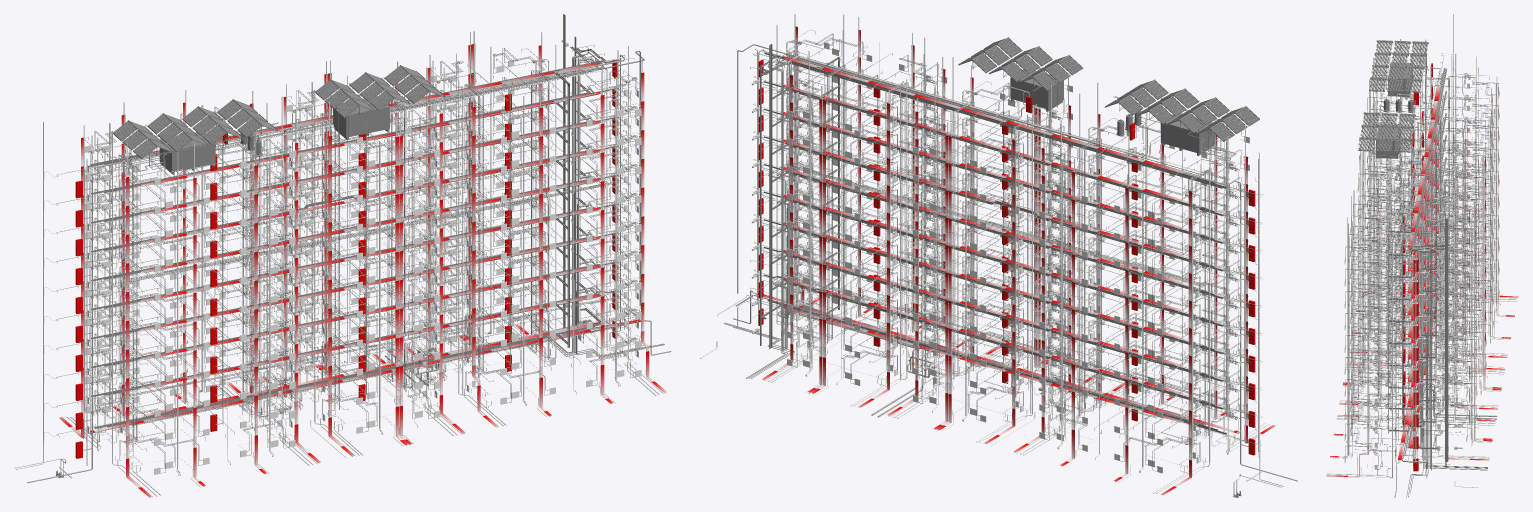
Rendered from jdjgss.gltf.
3 renders of one model, left to right at view 1: azimuth 30°, elevation 25°; view 2: azimuth 150°, elevation 25°; view 3: azimuth 270°, elevation 25°, orthographic. The views are drawn at different scales.
Parts seen in each view (by area): view 1: jgss1cjdsg, jgss6cjdsg, jgss2cjdsg, jgss7cjdsg, jgssdcjdxhs, jgss3cjdsg, jgss5cjdsg, jgssscjdsg, jgss8cjdsg, jgss4cjdsg, jgss9cjdsg, jgss1cjdsglx (+30 smaller); view 2: jgss1cjdsg, jgssscjdsg, jgss6cjdsg, jgssdcjdxhs, jgss2cjdsg, jgss7cjdsg, jgss9cjdsg, jgss3cjdsg, jgss8cjdsg, jgss5cjdsg, jgss4cjdsg, jgss1cjdsglx (+30 smaller); view 3: jgss1cjdsg, jgssscjdsg, jgss9cjdsg, jgss8cjdsg, jgssdcjdxhs, jgss7cjdsg, jgss6cjdsg, jgss5cjdsg, jgss2cjdsg, jgss4cjdsg, jgss3cjdsg, jgss1cjdsglx (+30 smaller).
Part boxes in pixels (x1,y1,x2,y2): jgss1cjdsg: (14, 297, 671, 497); jgss6cjdsg: (43, 154, 642, 325); jgss2cjdsg: (43, 272, 642, 441); jgss7cjdsg: (43, 125, 642, 296); jgssdcjdxhs: (113, 65, 445, 185); jgss3cjdsg: (43, 241, 642, 412); jgss5cjdsg: (43, 183, 642, 357); jgssscjdsg: (43, 44, 644, 212); jgss8cjdsg: (43, 98, 642, 267); jgss4cjdsg: (43, 214, 642, 383); jgss9cjdsg: (43, 69, 642, 241); jgss1cjdsglx: (59, 304, 666, 497); jgss1cjdsg: (700, 270, 1297, 495); jgssscjdsg: (737, 29, 1263, 222); jgss6cjdsg: (737, 132, 1262, 330); jgssdcjdxhs: (958, 37, 1259, 155); jgss2cjdsg: (737, 242, 1262, 440); jgss7cjdsg: (737, 104, 1261, 302); jgss9cjdsg: (737, 53, 1262, 250); jgss3cjdsg: (737, 215, 1262, 412); jgss8cjdsg: (737, 81, 1262, 275); jgss5cjdsg: (737, 160, 1262, 360); jgss4cjdsg: (737, 191, 1262, 384); jgss1cjdsglx: (752, 273, 1275, 495); jgss1cjdsg: (1326, 252, 1517, 497); jgssscjdsg: (1345, 48, 1498, 279); jgss9cjdsg: (1345, 67, 1498, 301); jgss8cjdsg: (1345, 88, 1498, 323); jgssdcjdxhs: (1358, 40, 1428, 159); jgss7cjdsg: (1345, 111, 1498, 345); jgss6cjdsg: (1345, 133, 1498, 367); jgss5cjdsg: (1345, 155, 1498, 390); jgss2cjdsg: (1345, 230, 1498, 456); jgss4cjdsg: (1345, 178, 1498, 411); jgss3cjdsg: (1345, 199, 1498, 434); jgss1cjdsglx: (1326, 266, 1518, 477).
Bounding box in the file's own units: 73.89 × 41.3 × 26.06.
Materials: 15 (2 with a texture image).
